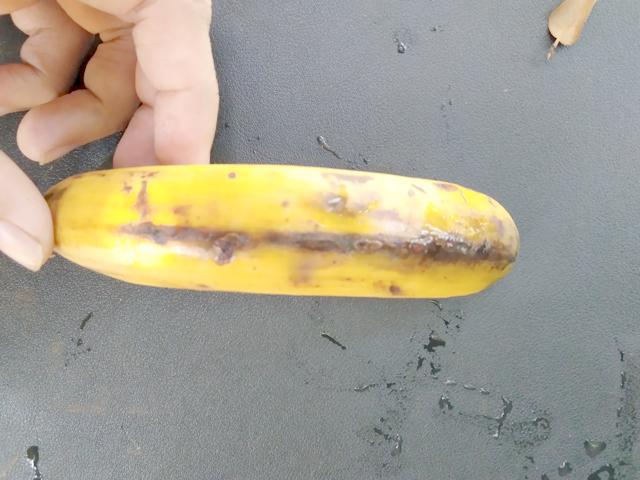overripe: (27, 121, 533, 332)
